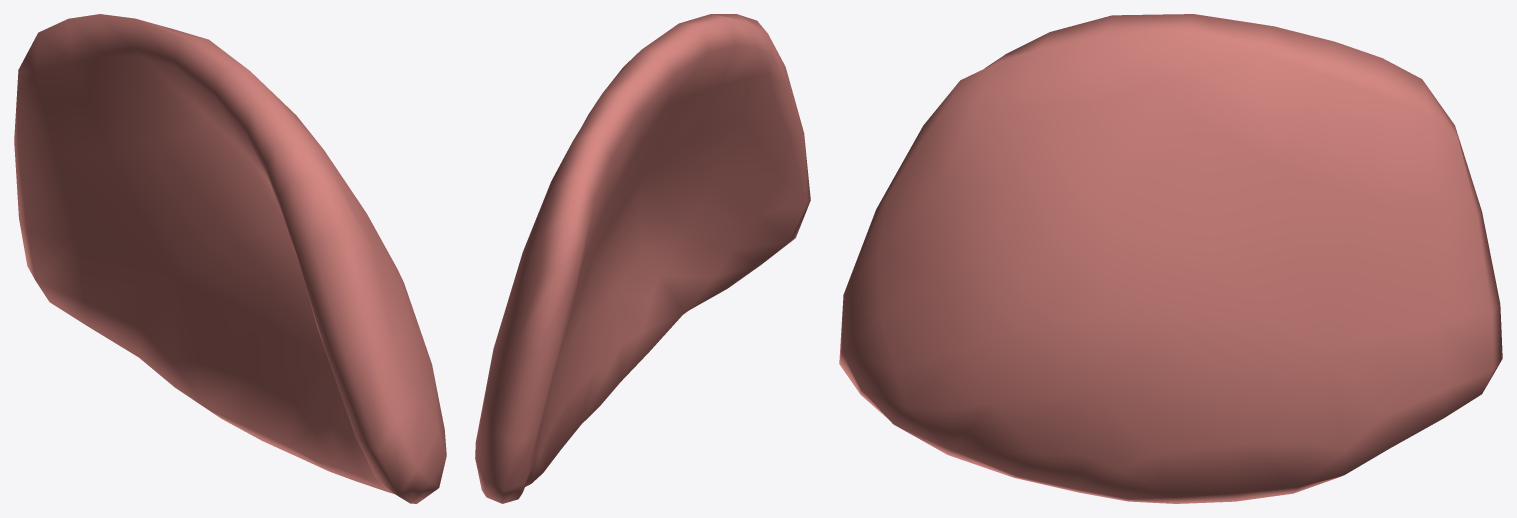
3 renders of one model, left to right at view 1: azimuth 30°, elevation 25°; view 2: azimuth 150°, elevation 25°; view 3: azimuth 270°, elevation 25°, orthographic. The views are drawn at different scales.
Visible parts, largest first — view 1: ZA_aded53176319e666; view 2: ZA_aded53176319e666; view 3: ZA_aded53176319e666.
Boxes of the visible parts, x1,y1,x2,y2 form: ZA_aded53176319e666: [14, 14, 446, 503]; ZA_aded53176319e666: [475, 14, 810, 503]; ZA_aded53176319e666: [839, 14, 1502, 503].
Size of the model in its own units: 0.00161 by 0.0036 by 0.00496.
